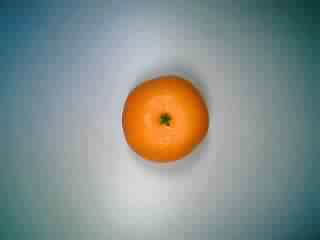orange: (121, 61, 216, 163)
